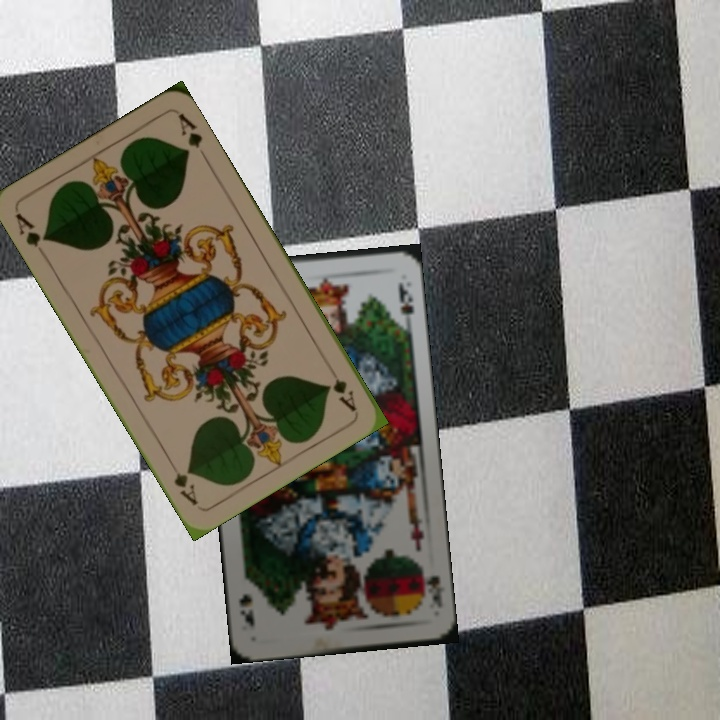GA: (11, 208, 52, 262), (328, 374, 359, 414)
SK: (416, 560, 446, 610)
